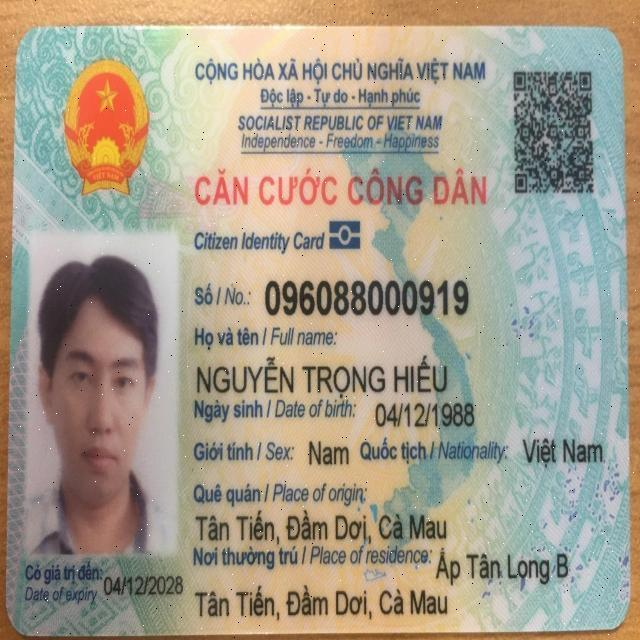current_place: (194, 578, 453, 627), (434, 545, 573, 586)
dob: (370, 397, 479, 432)
expire_date: (104, 572, 185, 602)
gender: (305, 435, 353, 471)
id: (258, 270, 475, 322)
name: (190, 346, 455, 396)
nationality: (517, 431, 612, 473)
origin_place: (195, 504, 454, 544)
